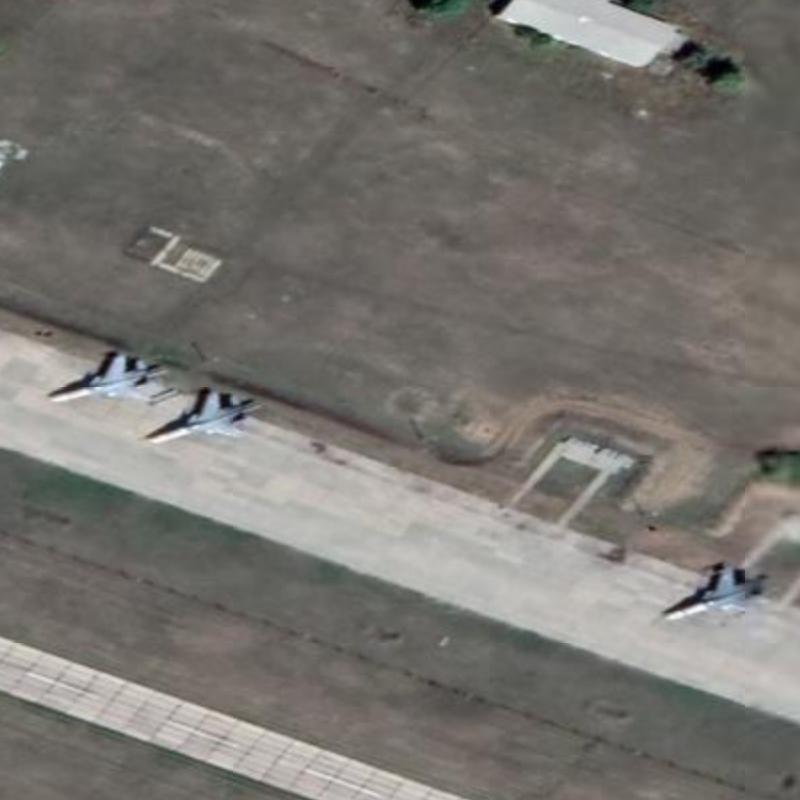A19: (141, 386, 263, 447), (44, 350, 169, 405), (659, 562, 763, 623)
